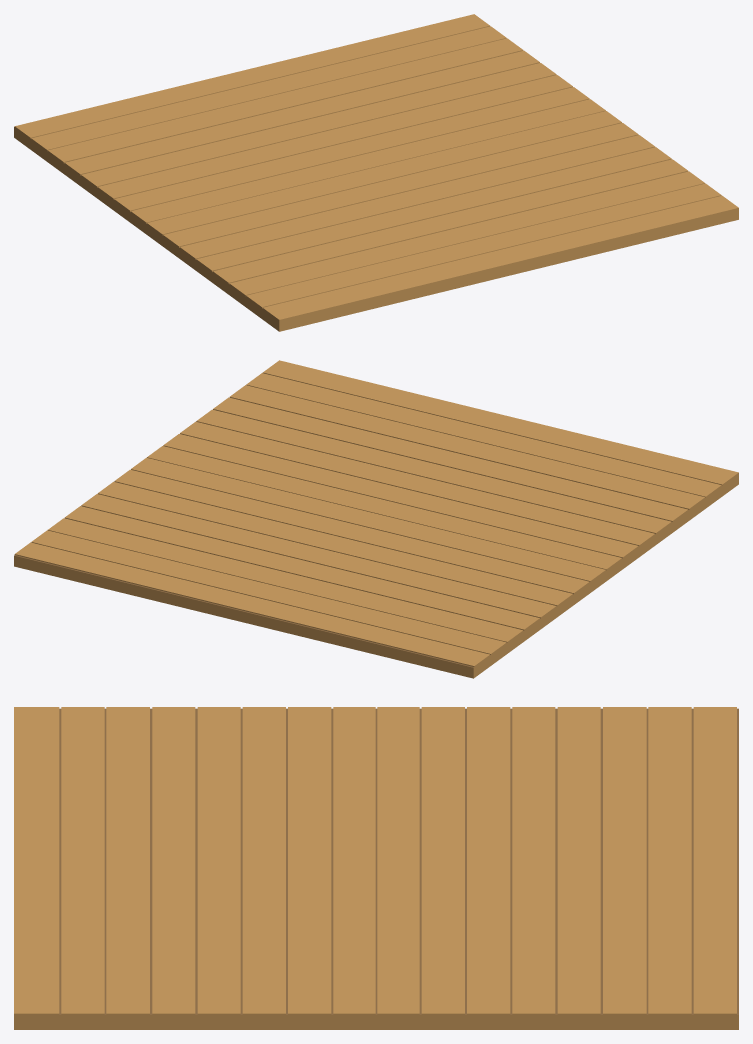
The model's file is WoodPanel_1.fbx.
The picture shows the model from 3 angles, top to bottom: view 1: azimuth 30°, elevation 25°; view 2: azimuth 150°, elevation 25°; view 3: azimuth 270°, elevation 25°; orthographic projection. The views are drawn at different scales.
Visible parts, largest first — view 1: WoodPanel; view 2: WoodPanel; view 3: WoodPanel.
Part boxes in pixels (x1=…): WoodPanel: x1=14, y1=14, x2=738, y2=331; WoodPanel: x1=14, y1=360, x2=738, y2=678; WoodPanel: x1=14, y1=707, x2=738, y2=1029.
Size of the model in its own units: 636 by 15.8 by 636.
